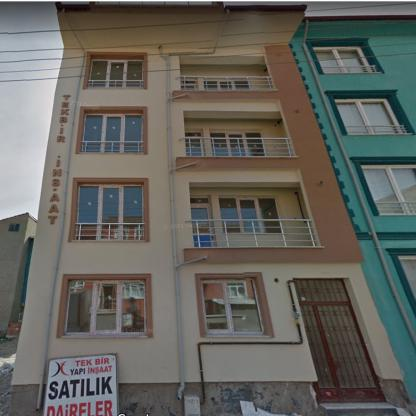door: (295, 280, 382, 401), (190, 198, 214, 247)
window: (66, 278, 146, 332), (74, 185, 143, 240), (200, 279, 264, 334), (362, 167, 416, 215), (81, 113, 143, 153), (219, 198, 283, 235), (336, 101, 402, 134), (88, 59, 144, 88), (314, 48, 371, 73), (210, 132, 265, 156), (400, 256, 416, 302), (184, 132, 204, 156), (204, 80, 249, 90), (181, 80, 196, 90)
